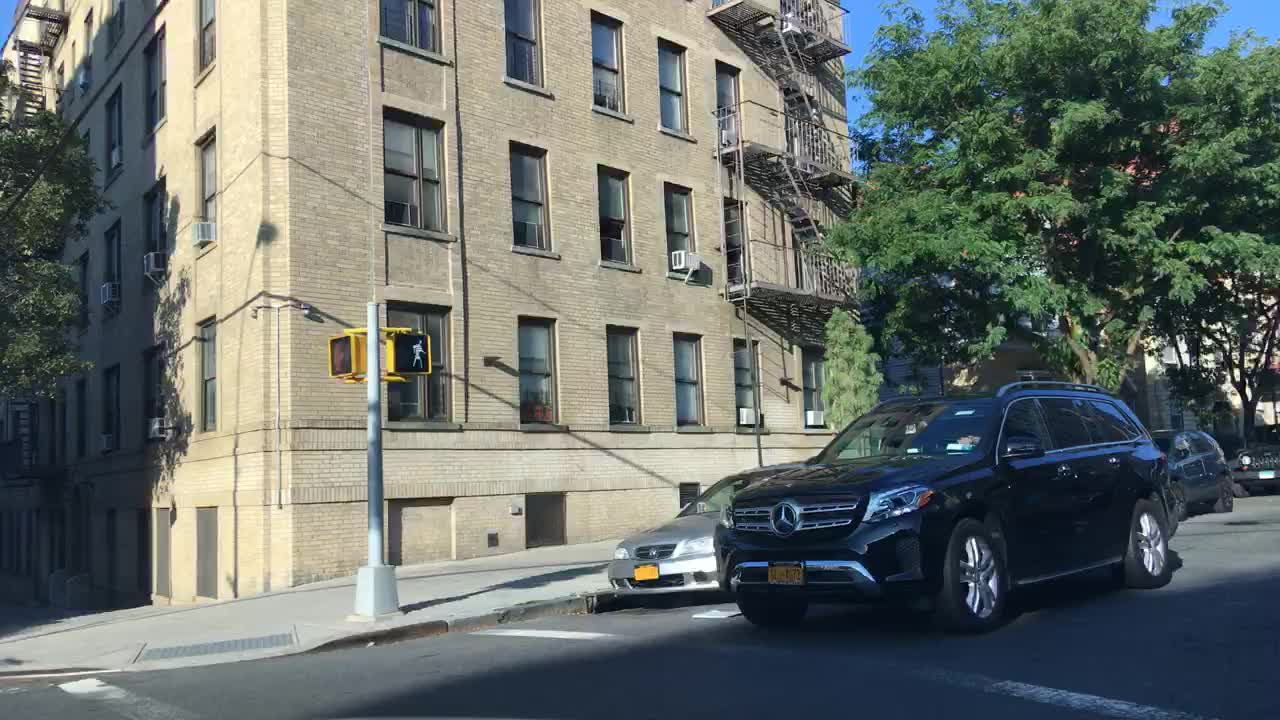car: (712, 377, 1179, 632), (608, 458, 801, 601), (1149, 424, 1231, 516), (1229, 419, 1279, 491)
traffic light: (387, 329, 431, 377), (326, 332, 361, 375)
